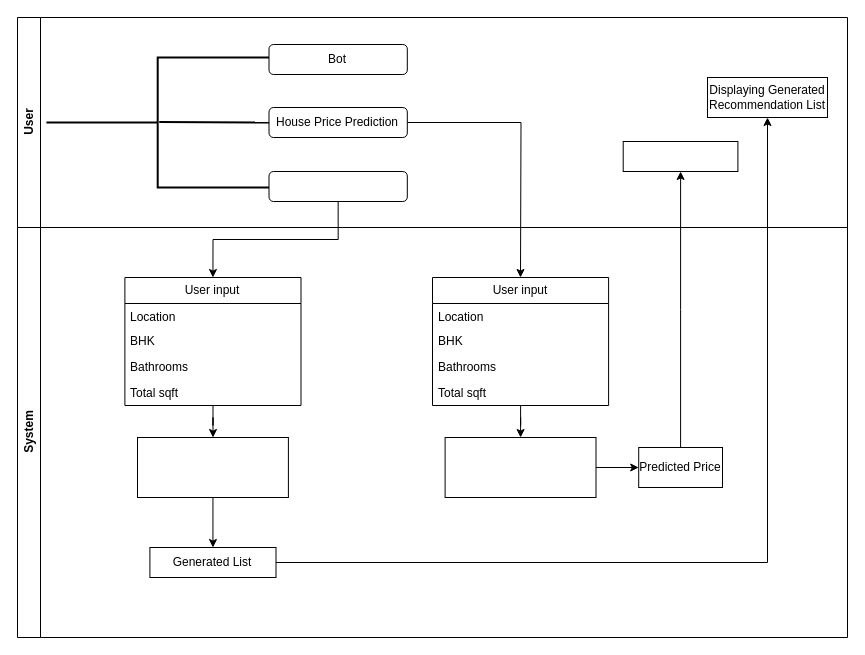
This 865x655 diagram has some shape labels left out. Each missing label, with the box of its shape:
House Recommendations: (268, 170, 407, 202)
Output Price: (622, 140, 738, 172)
Using Query Based Recommendation Techniques to create recommendations list: (136, 436, 288, 498)
Using tainined Machine learning Model to predict House price: (444, 436, 596, 498)
